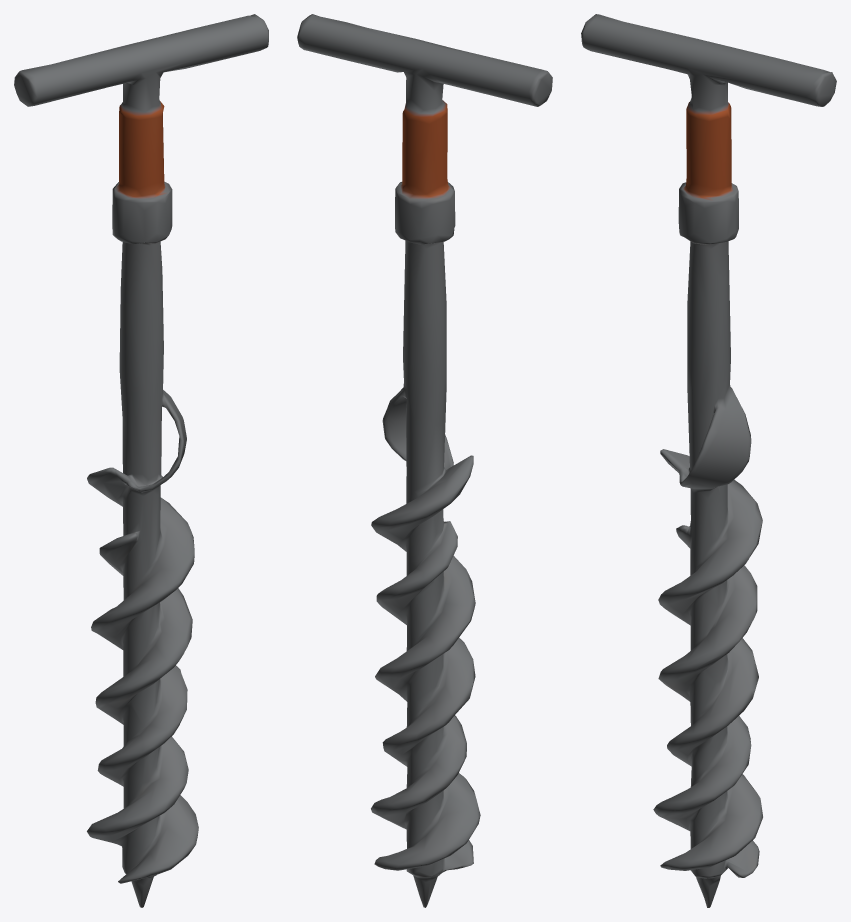
Rendered from gen3d-ice-auger-lod0.glb.
The picture shows the model from 3 angles, left to right: view 1: azimuth 30°, elevation 25°; view 2: azimuth 150°, elevation 25°; view 3: azimuth 330°, elevation 25°; orthographic projection.
Parts seen in each view (by area): view 1: part_0; view 2: part_0; view 3: part_0.
Part boxes in pixels (x1=…): part_0: x1=14, y1=14, x2=268, y2=907; part_0: x1=297, y1=14, x2=552, y2=907; part_0: x1=581, y1=14, x2=836, y2=907.
Size of the model in its own units: 0.2878 by 0.9981 by 0.1155.
